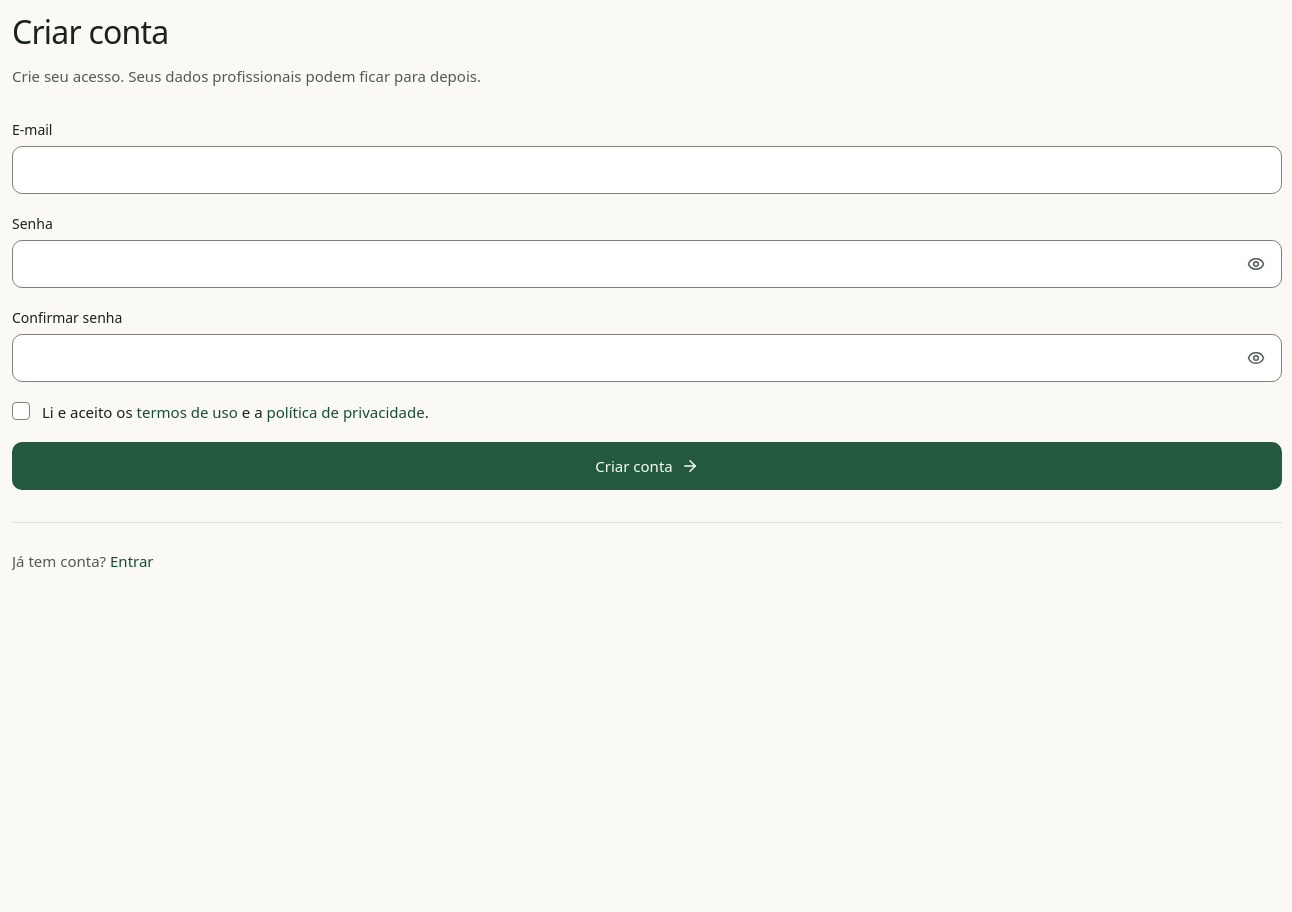
Test: Cadastro sem identificação profissional obrigatória › não cria conta com código recusado e preserva dados ao corrigir o acesso
Type "ana@exemplo.com.br" into the field labelled "E-mail" at (647, 170), box [12,146,1282,194]
Type "SenhaSegura123!" into the password field labelled "Senha" at (647, 264), box [12,240,1282,288]
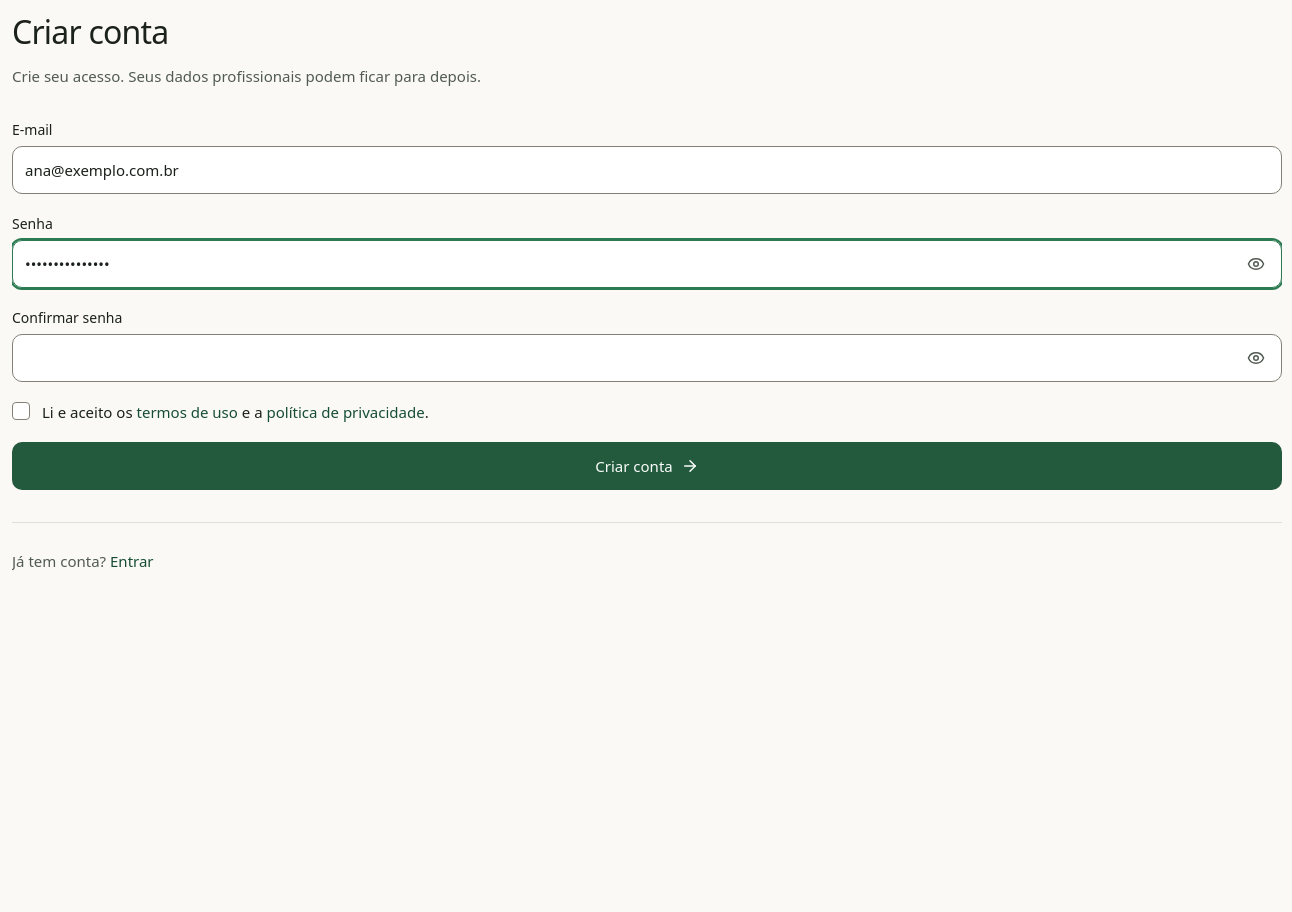
Type "SenhaSegura123!" into the password field labelled "Confirmar senha" at (647, 358), box [12,334,1282,382]
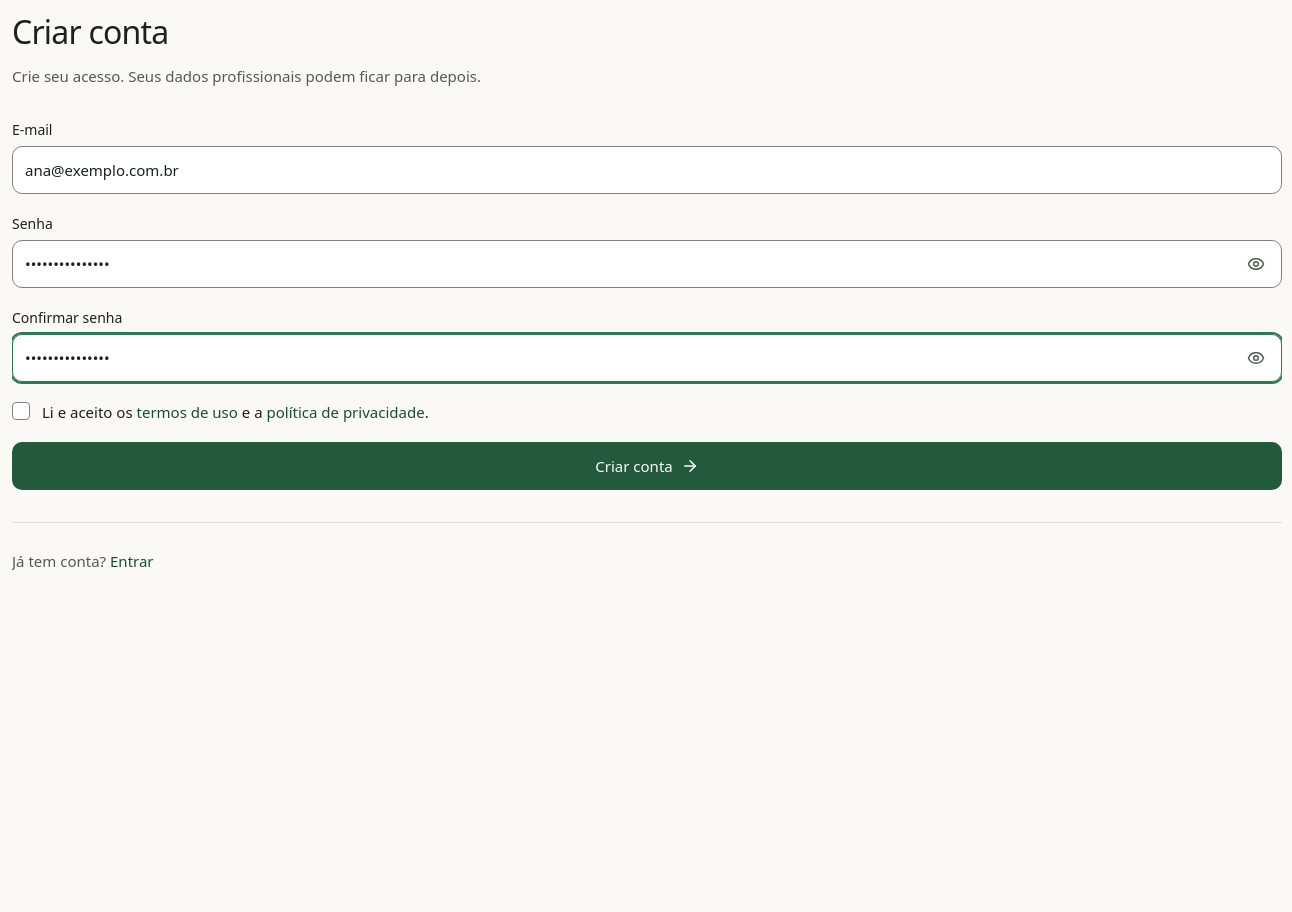
Click the checkbox labelled "Li e aceito os termos de uso e a política de privacidade ." at (21, 411), box [12,402,30,420]
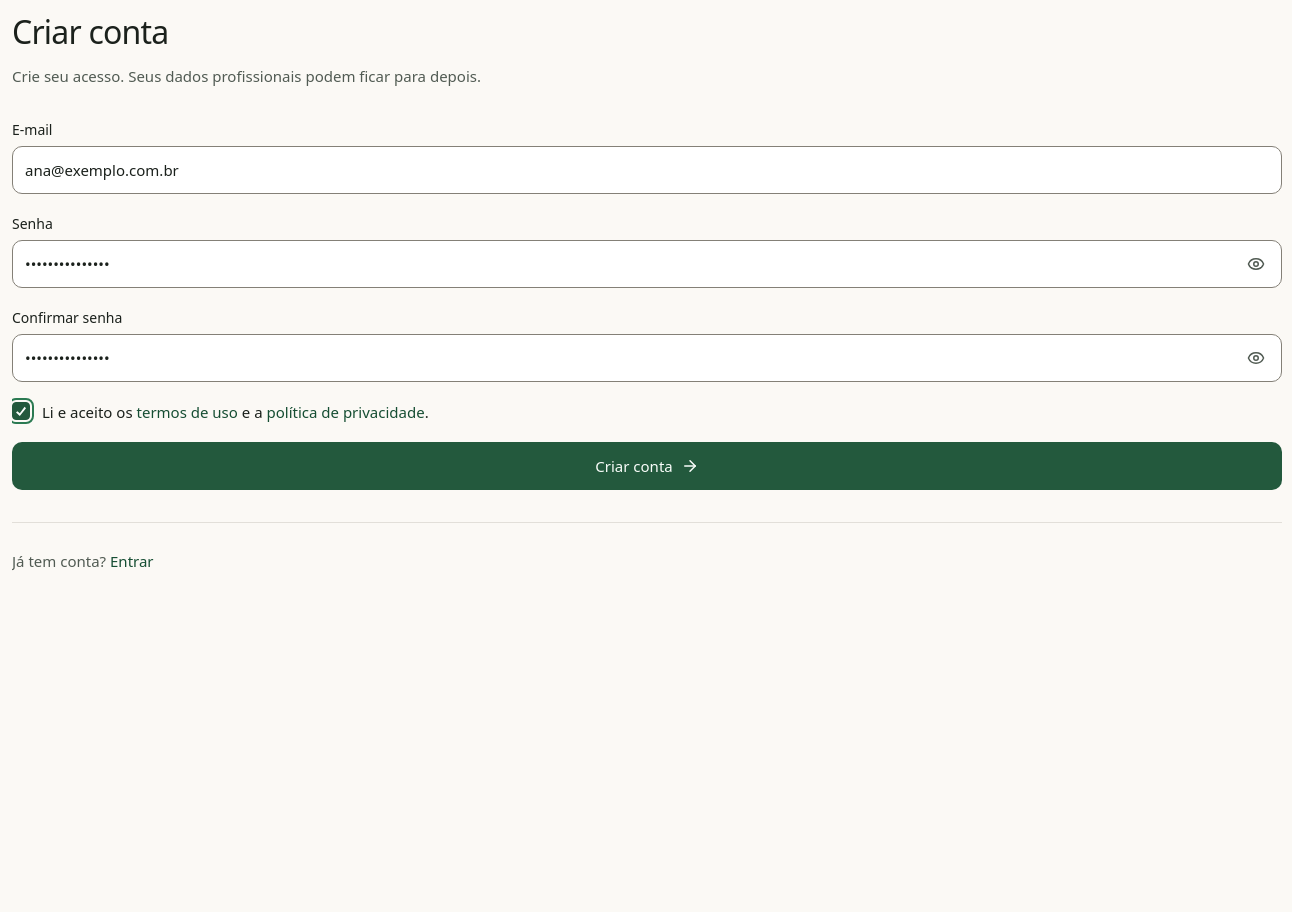
Click the button "Criar conta" at (647, 466), box [12,442,1282,490]
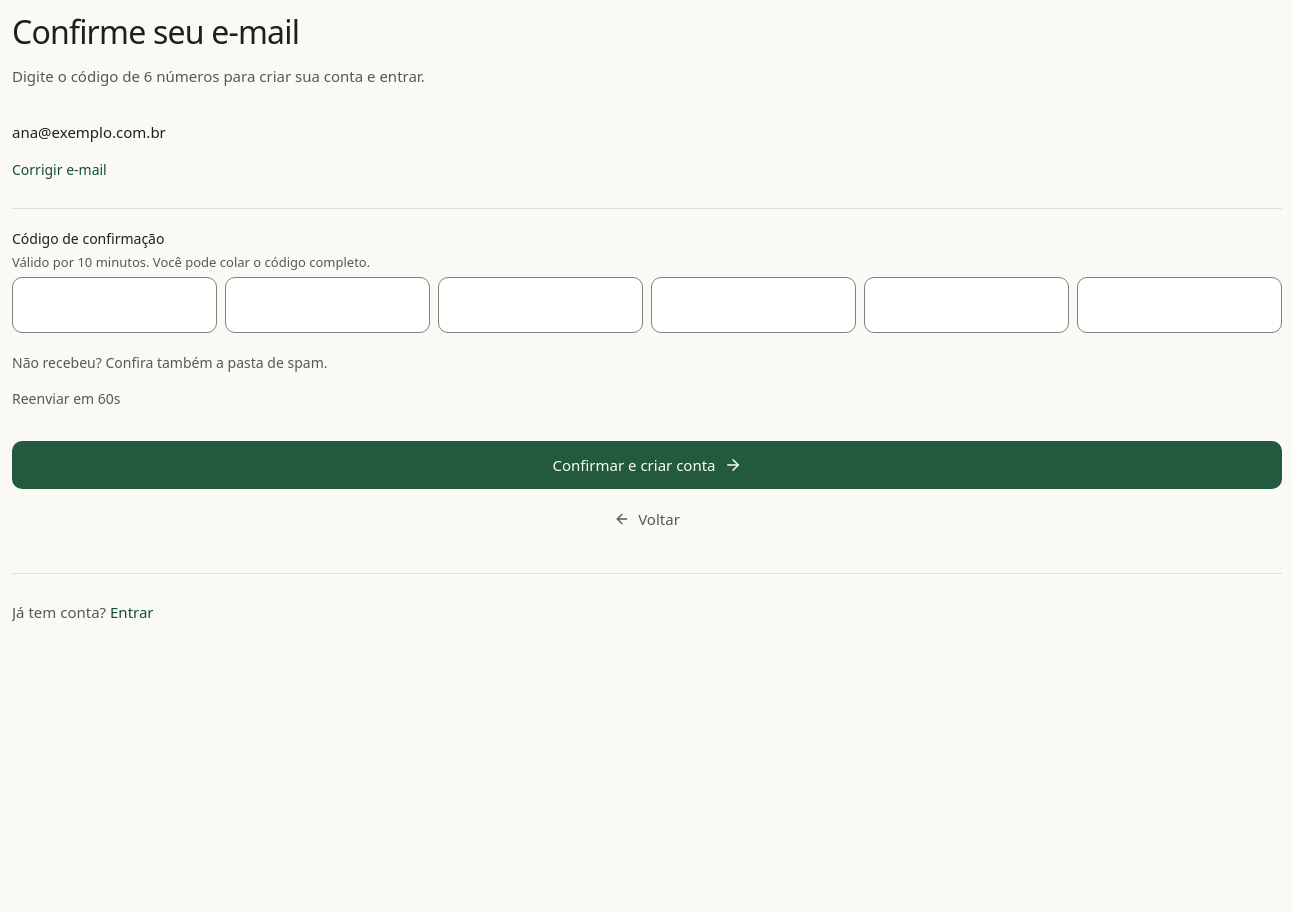
Type "123456" into the field labelled "Código de confirmação" at (647, 305), box [12,277,1282,333]
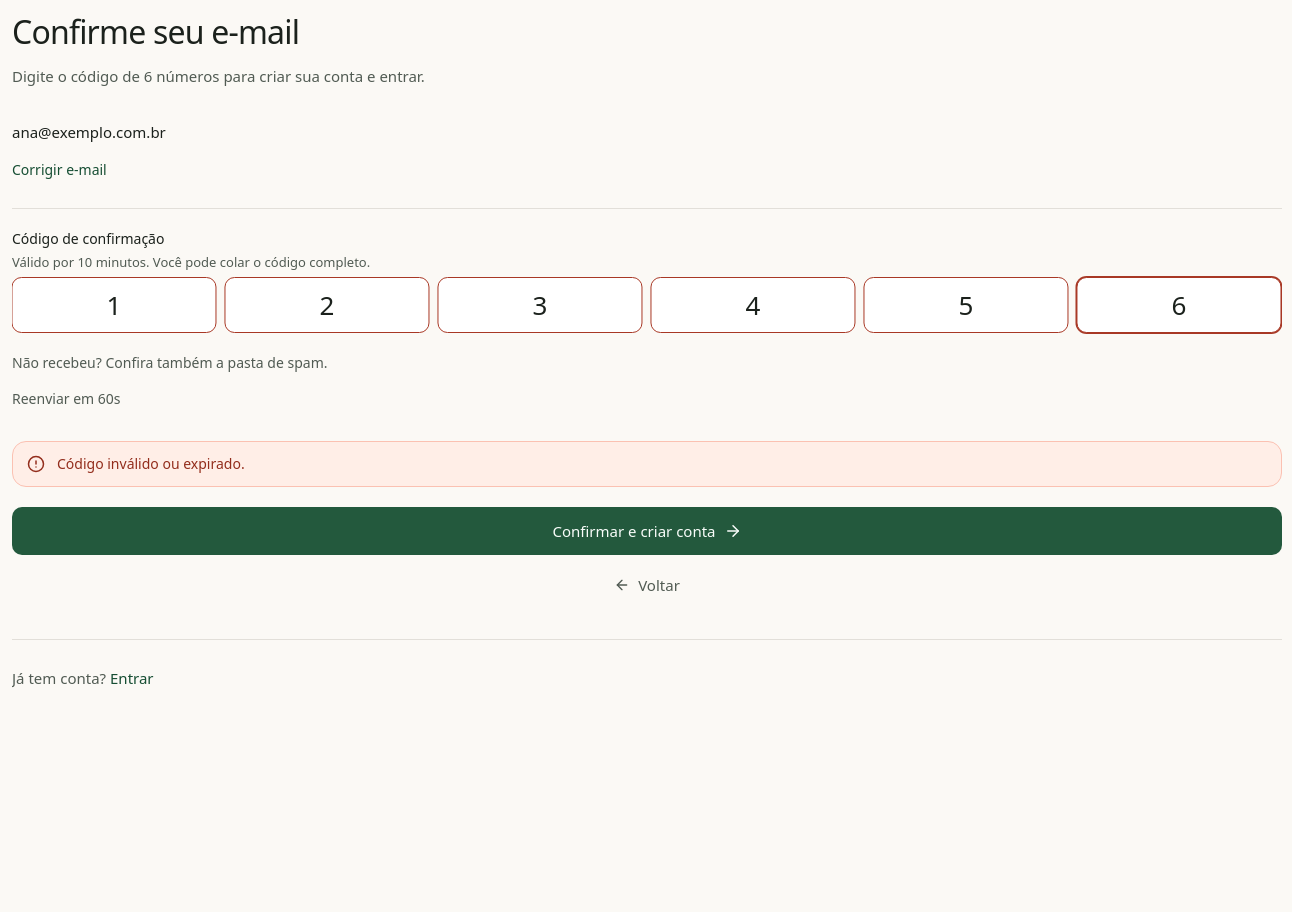
expect the text "Código inválido ou expirado." is shown: met, box [57,454,245,473]
Click the button "Corrigir e-mail" at (59, 170), box [12,148,107,192]
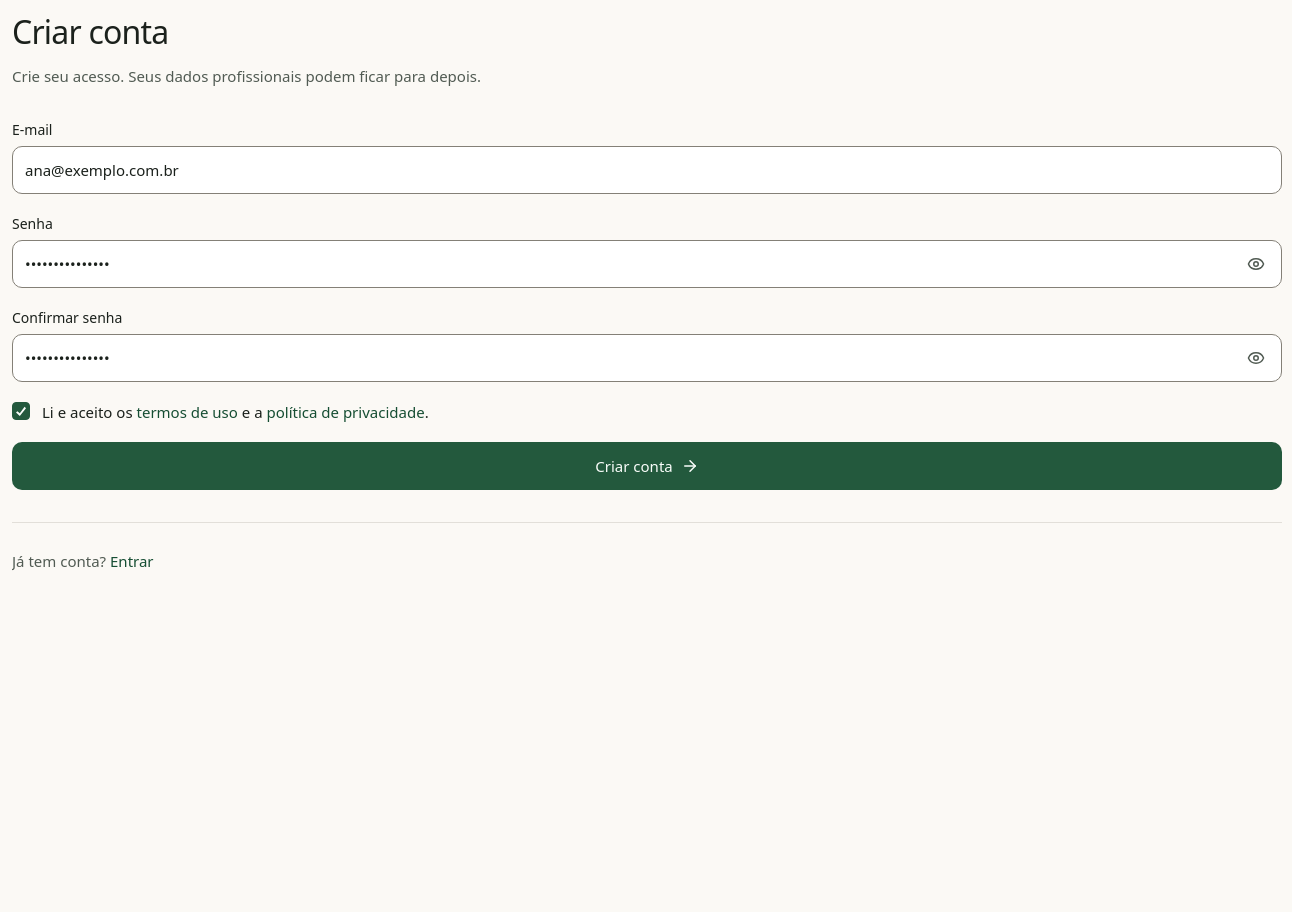
expect the field labelled "E-mail" holds "ana@exemplo.com.br": met, box [12,146,1282,194]
expect the password field labelled "Senha" holds "SenhaSegura123!": met, box [12,240,1282,288]
expect the checkbox is checked: met, box [12,402,30,420]
